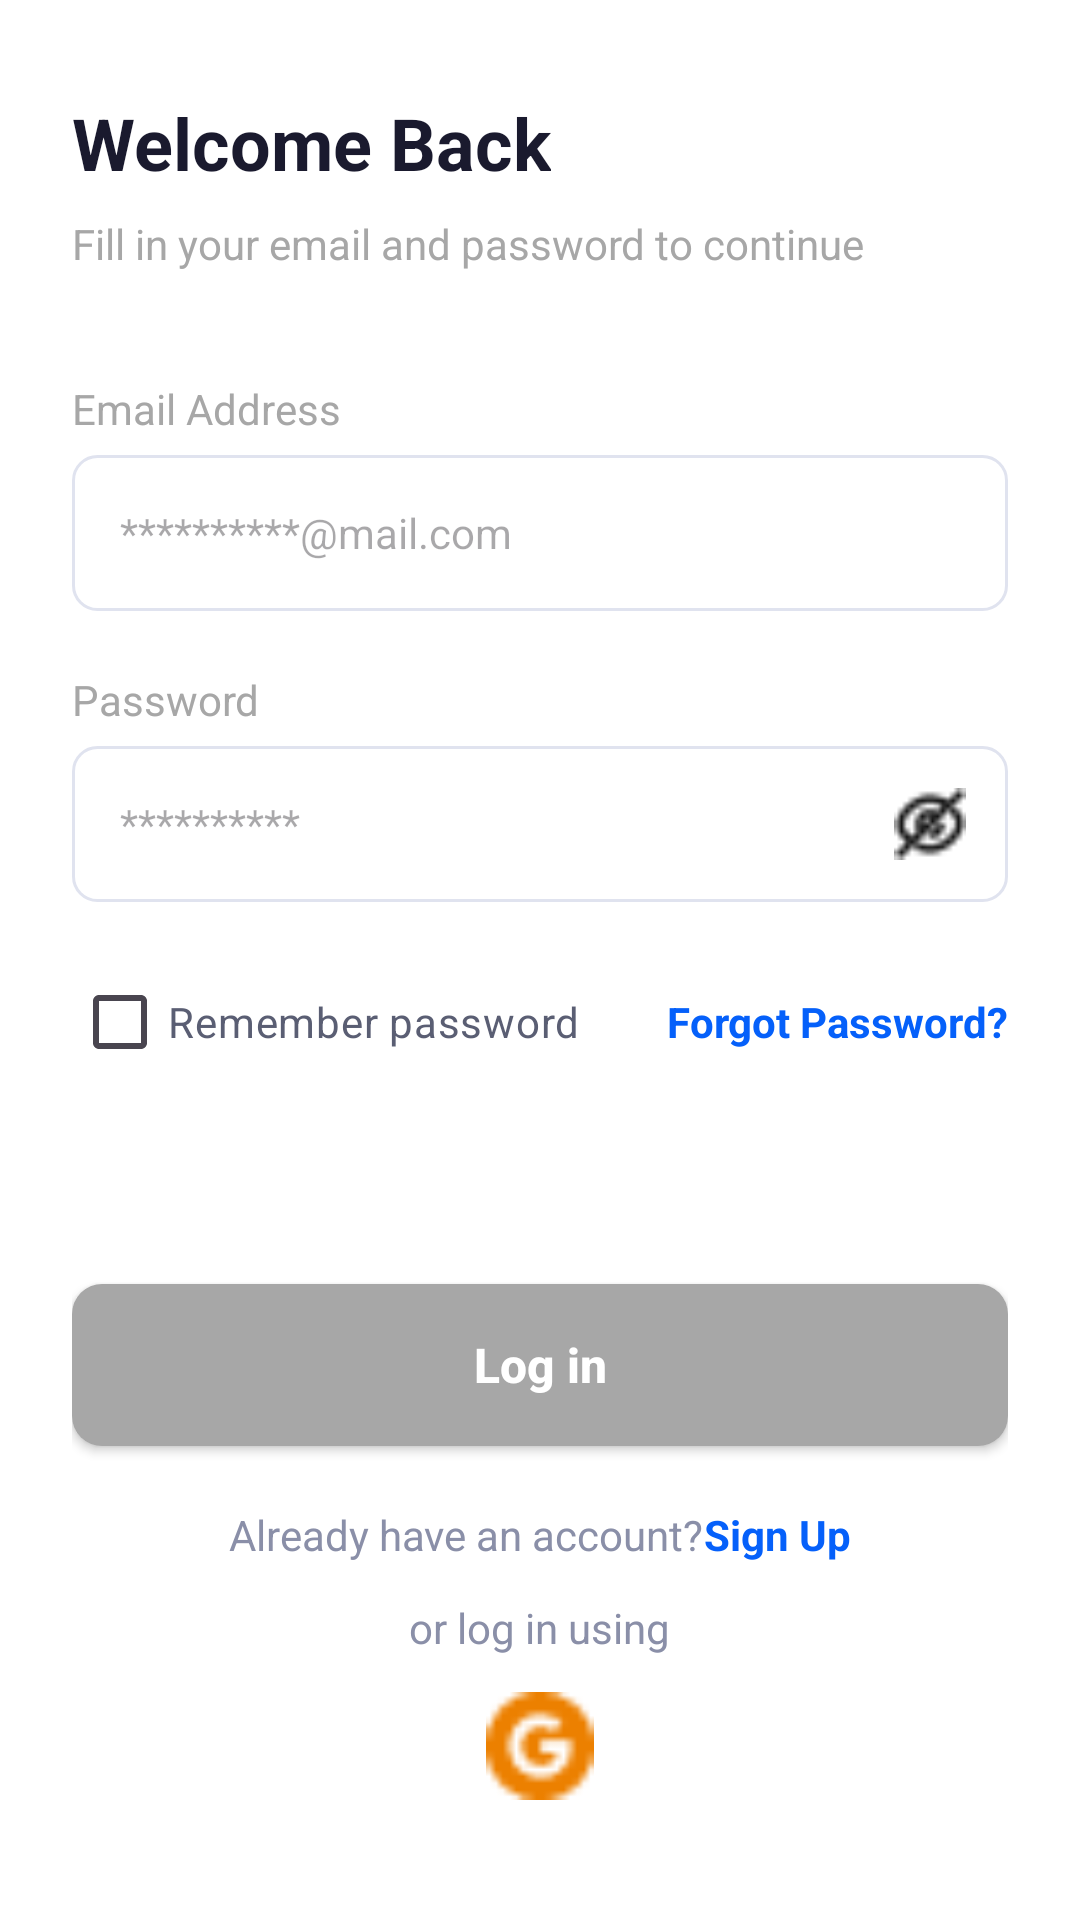

Named icons in this screenshot (1080px×1920px) and their bounding boxes, Rect(x1, y1, x2, y2):
Toggle password visibility: Rect(894, 788, 966, 860)
